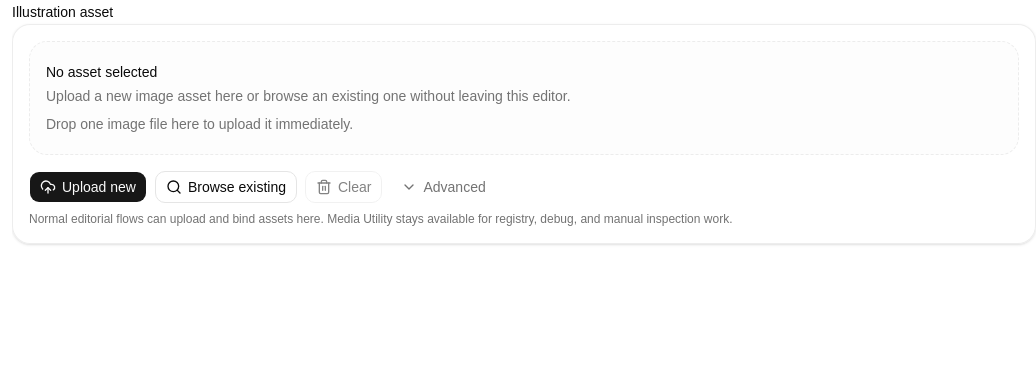
AssetPickerField › opens advanced mode before exposing manual asset input
Expected: the field labelled "manual asset id" is not shown
What coordinates should you click on to do the following:
click the button "Advanced"
I would click on:
 (444, 187)
Its box is x1=390 y1=171 x2=497 y2=203.
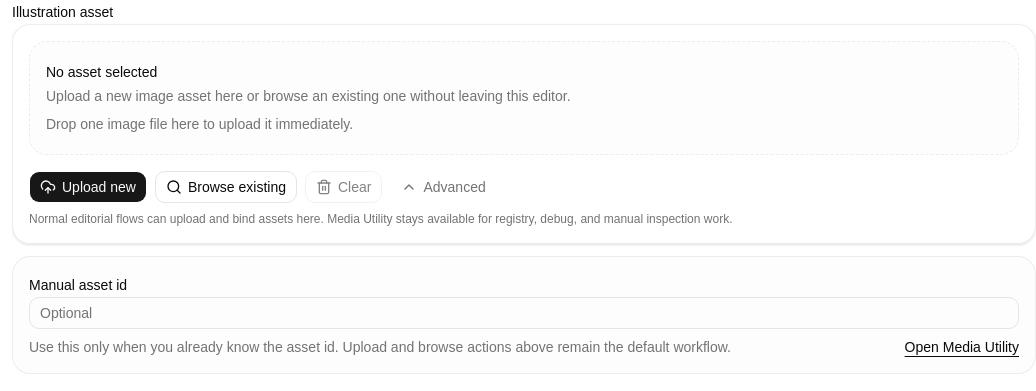
Result: the number field named "manual asset id" is shown at x1=29 y1=297 x2=1019 y2=329
